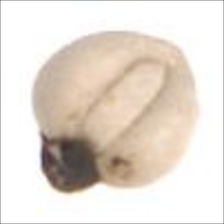L5: (77, 57, 172, 146), (38, 134, 103, 197), (142, 32, 195, 80)
L6: (28, 29, 202, 197)
